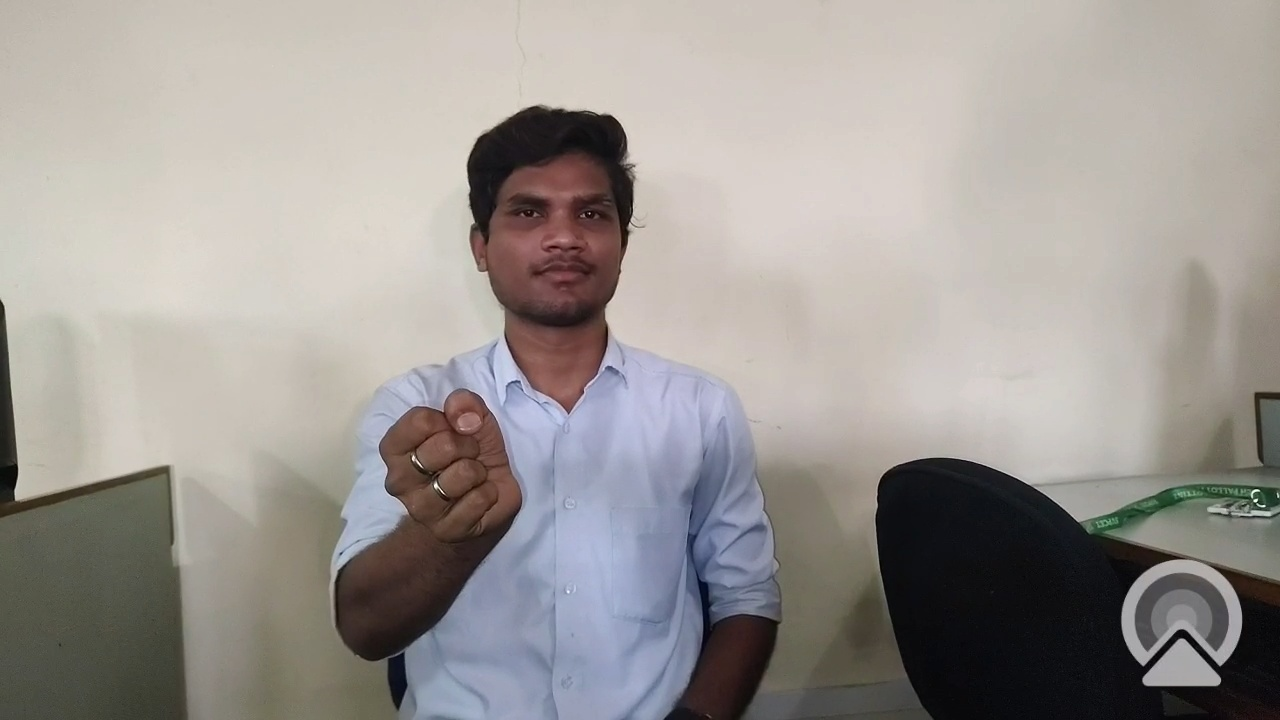Yes: (369, 375, 562, 572)
